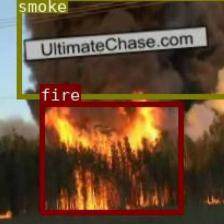fire: (39, 101, 182, 214)
smoke: (16, 0, 224, 97)
